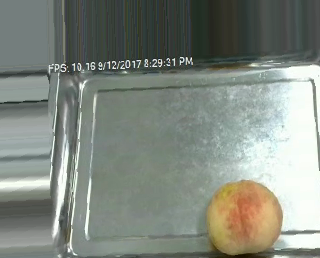Peach: (205, 179, 284, 255)
